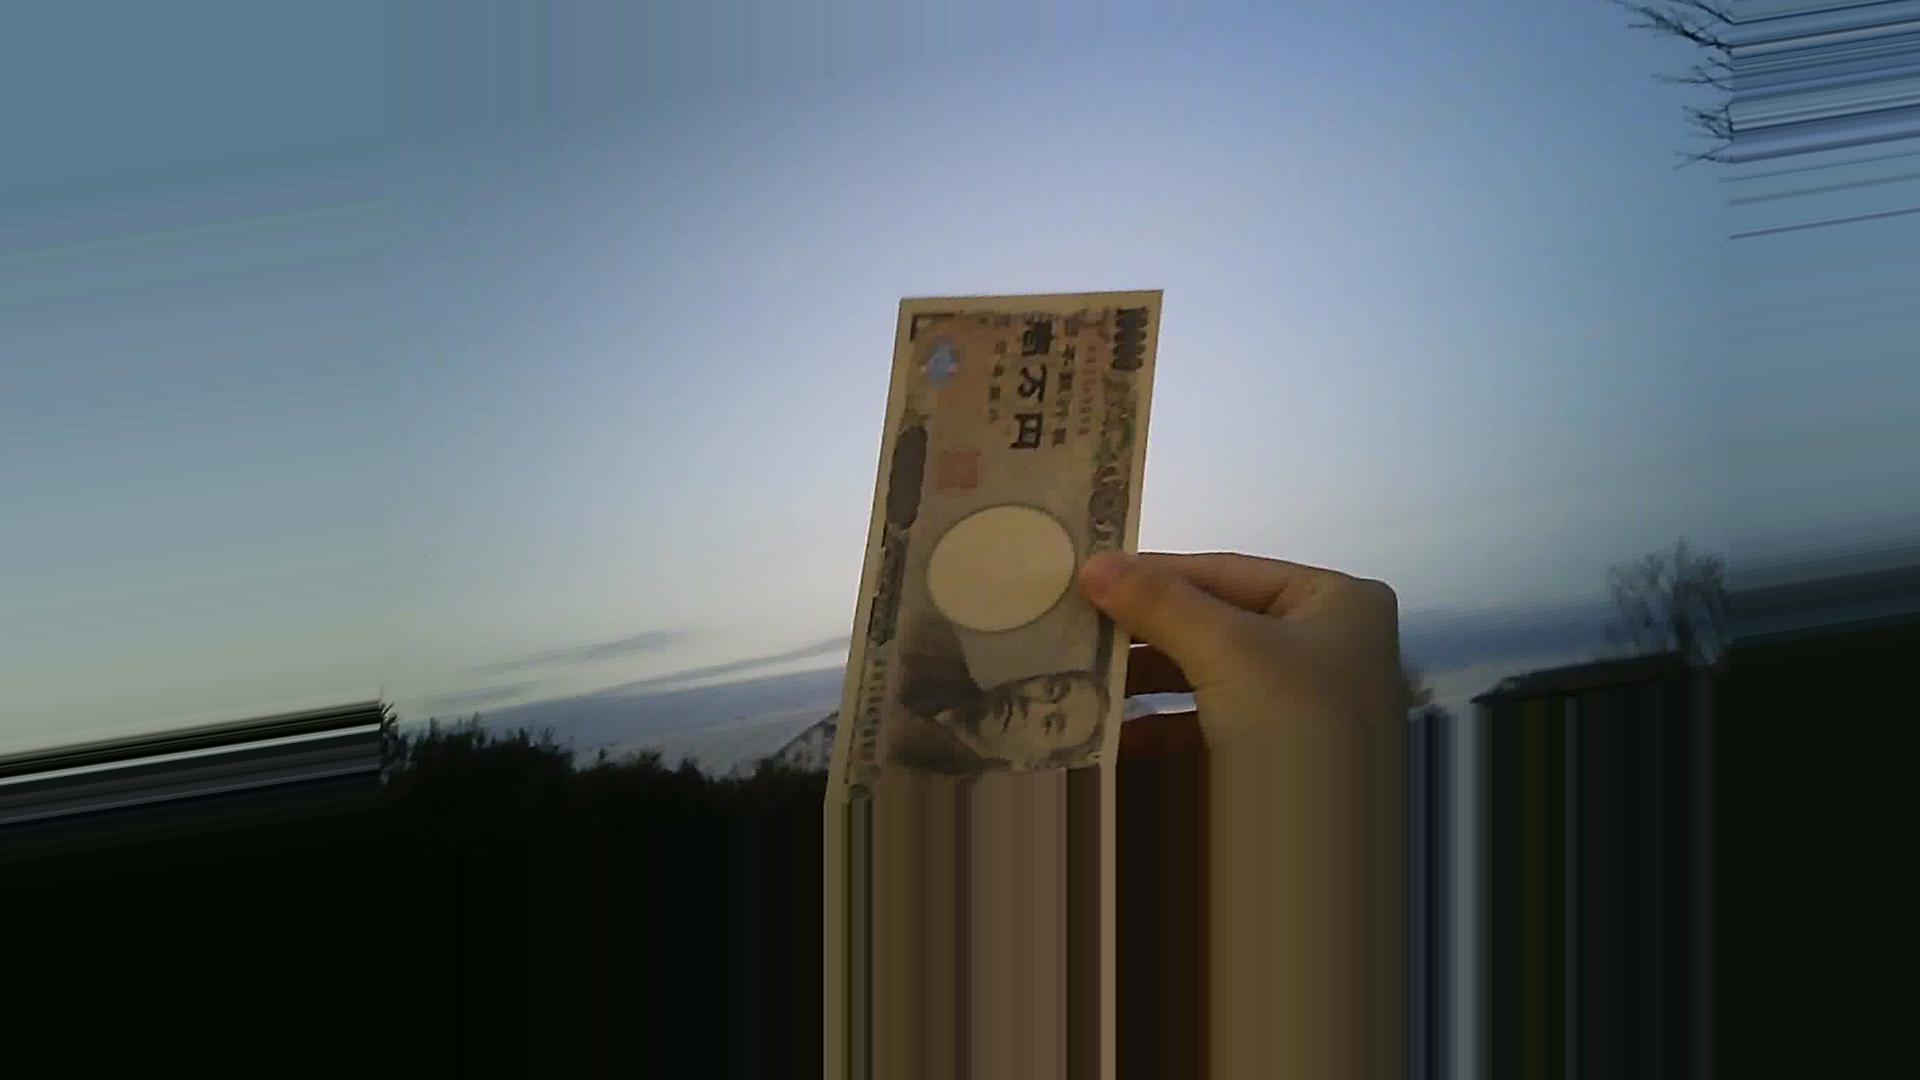10,000 Yen: (860, 287, 1185, 770)
